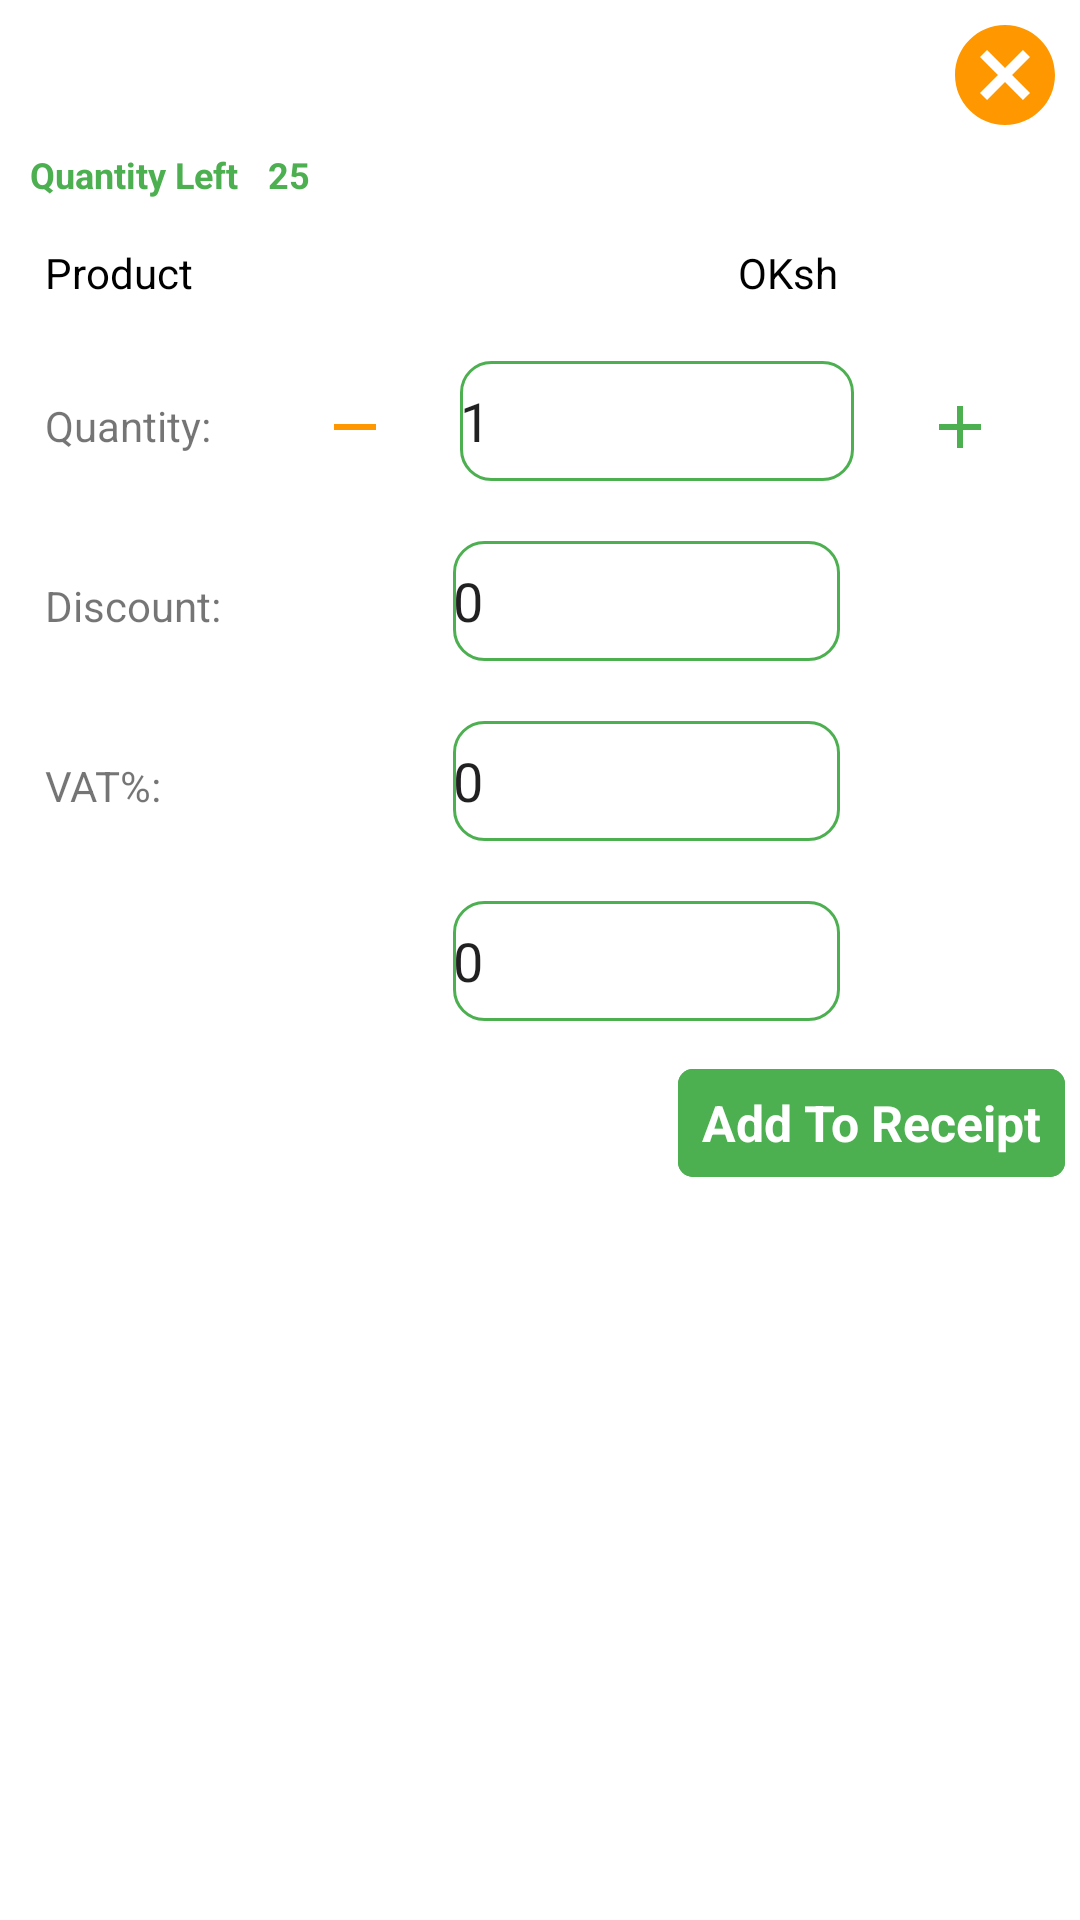

Named icons in this screenshot (1080px×1920px) and their centers, [x,y]:
add: [960,427]
cancel: [1005,75]
